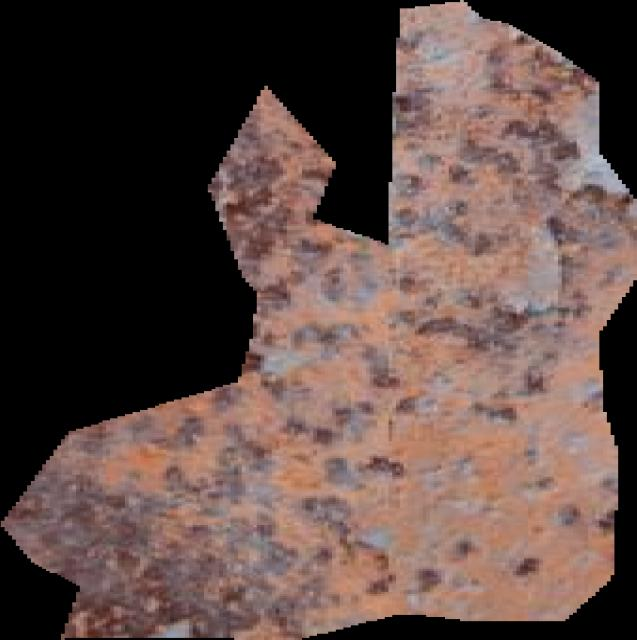Pitting Corrosion: (1, 0, 637, 640)
